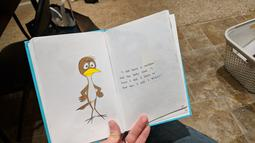text block: (114, 61, 166, 90)
